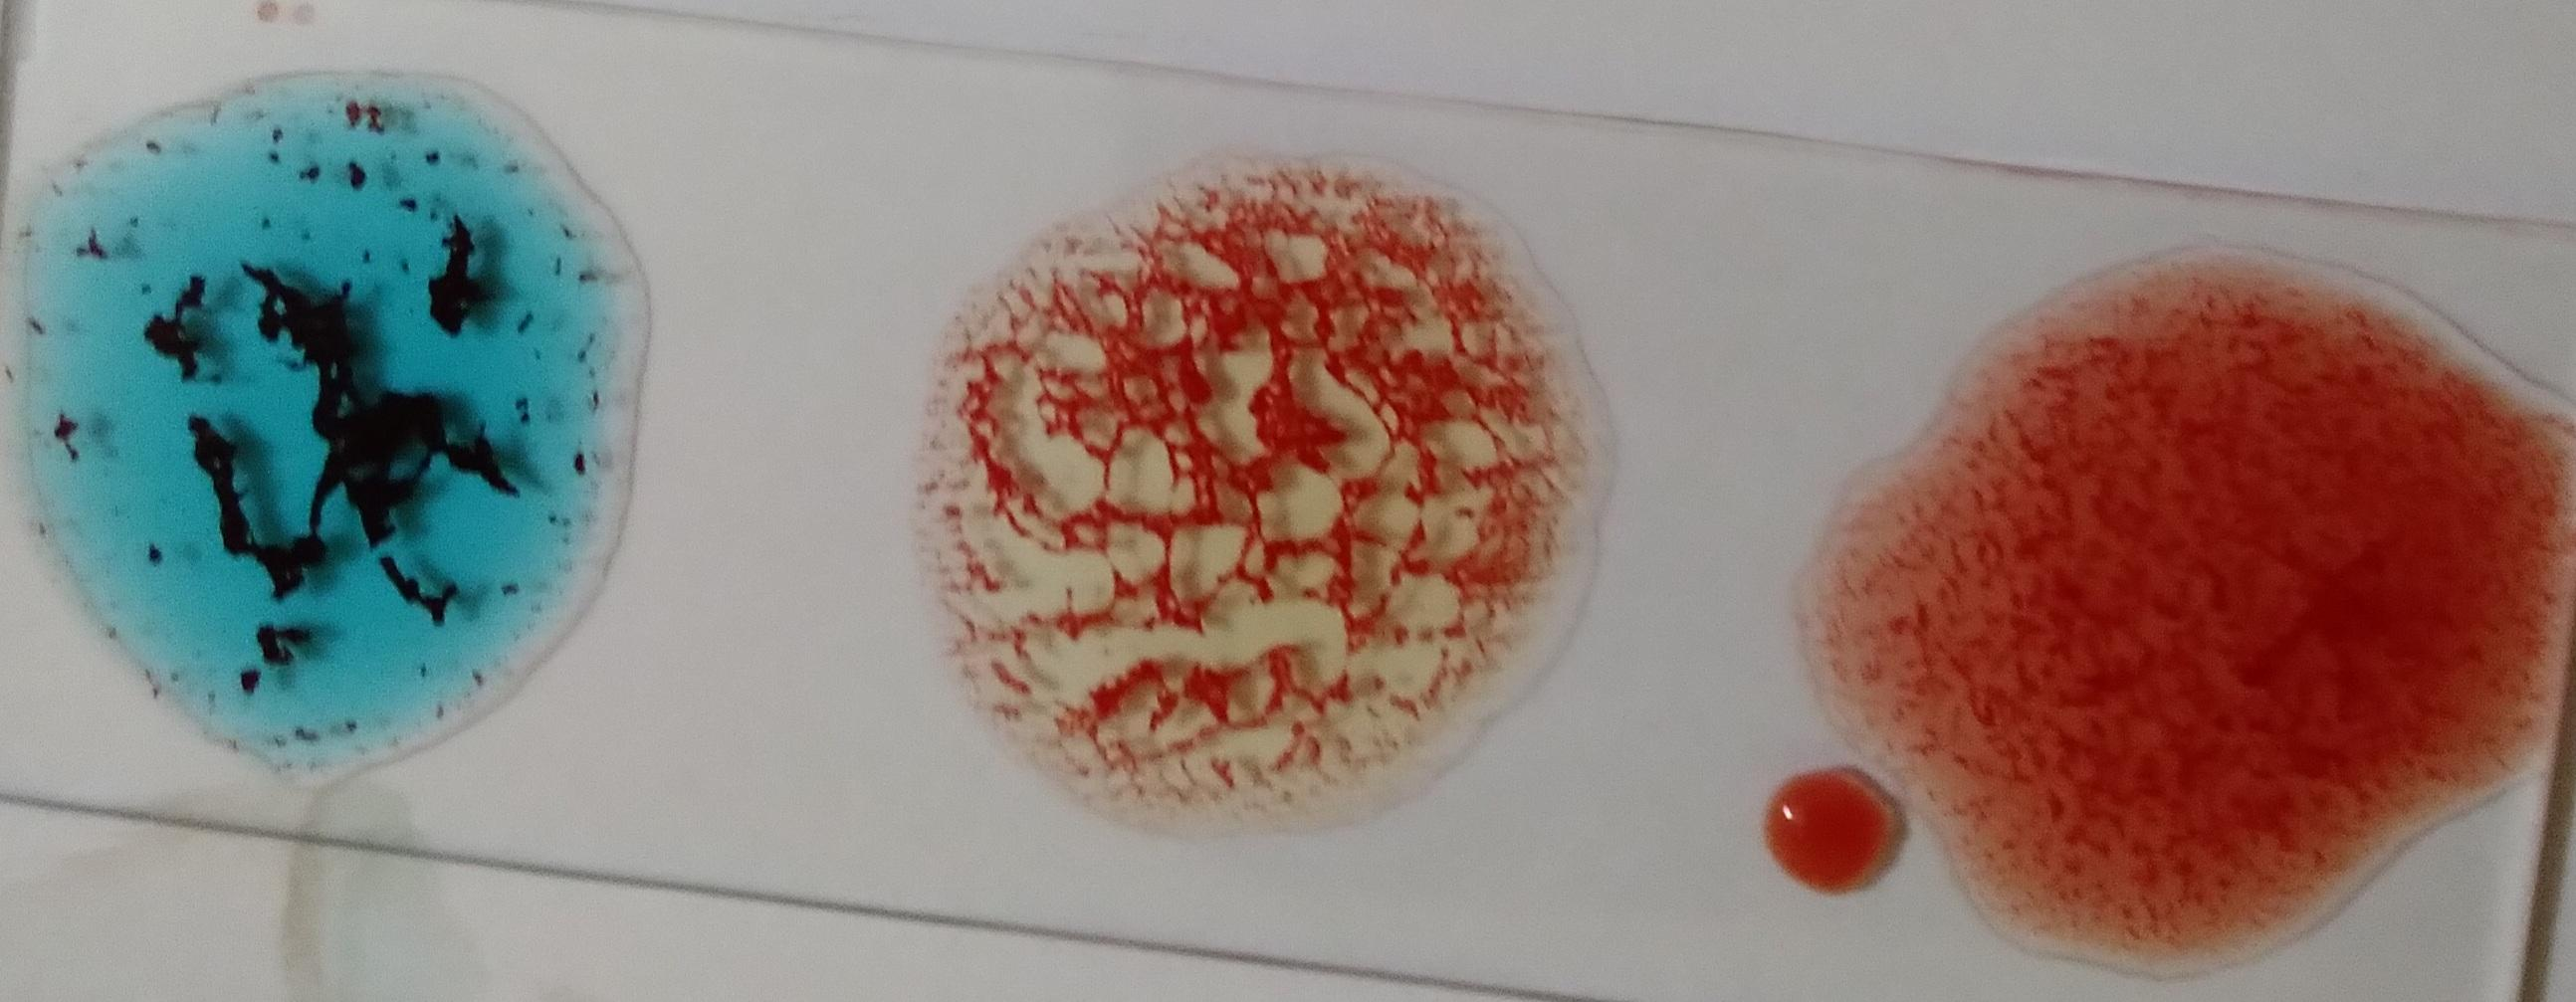A: (0, 69, 618, 765)
B: (900, 146, 1595, 838)
D: (1904, 253, 2533, 972)
